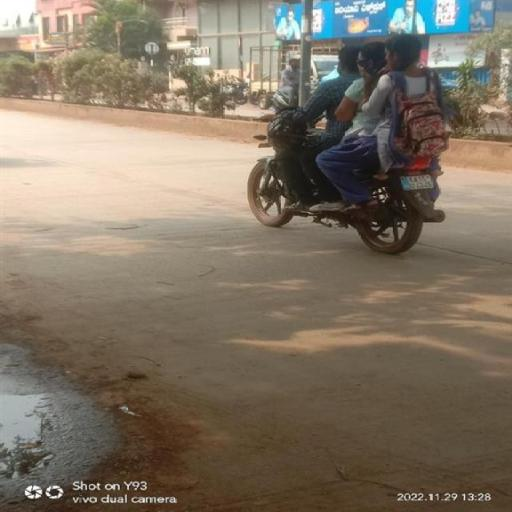tripple riding: (270, 32, 448, 167)
